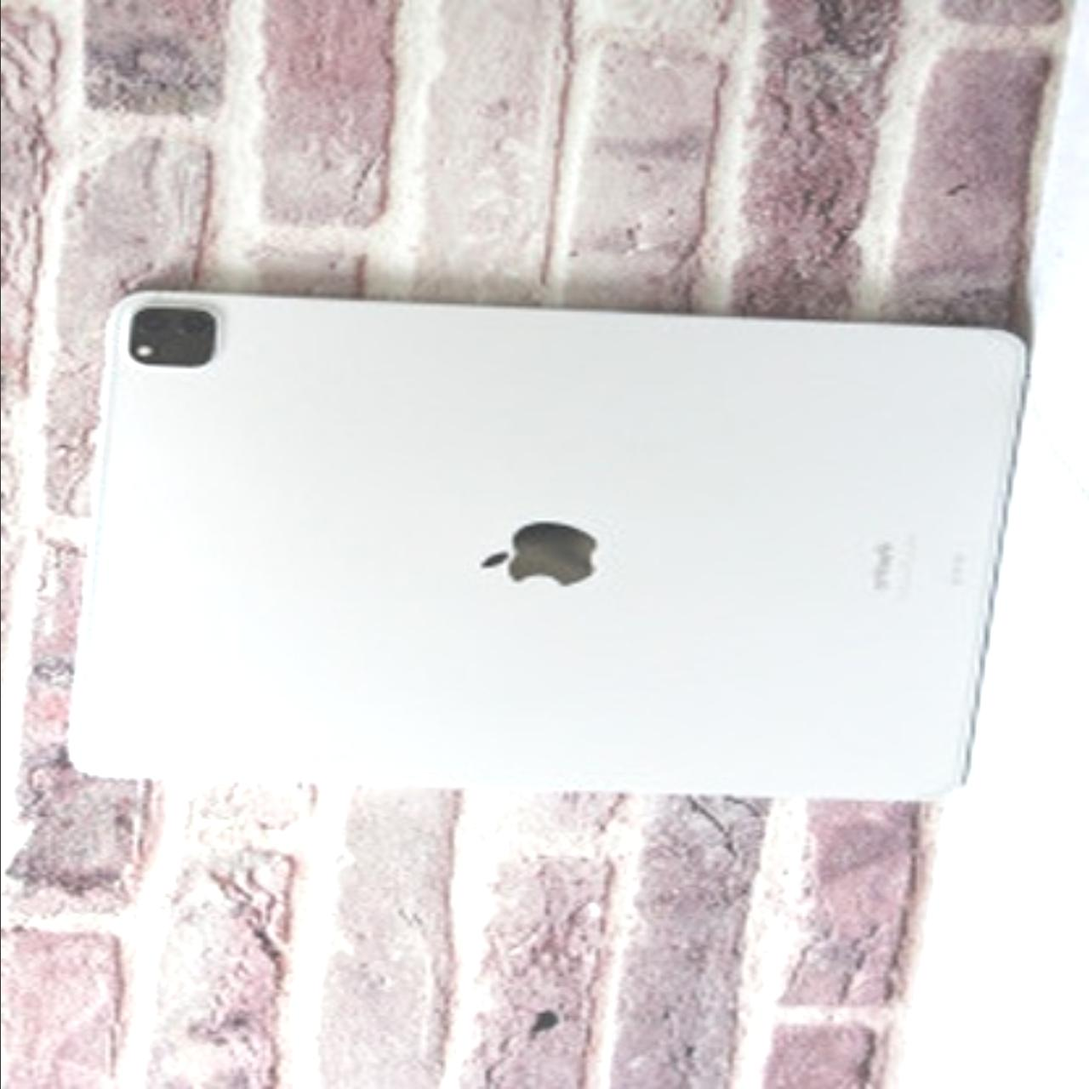Tablet_PC: (55, 275, 1023, 822)
